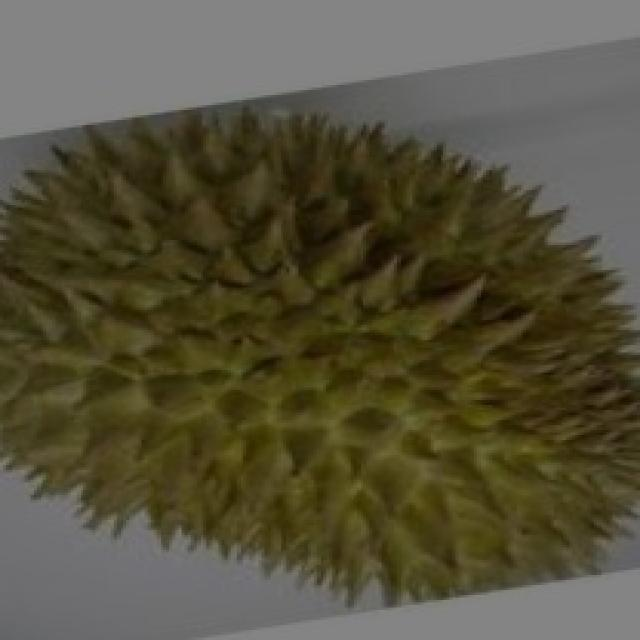fruit: (0, 155, 354, 640)
